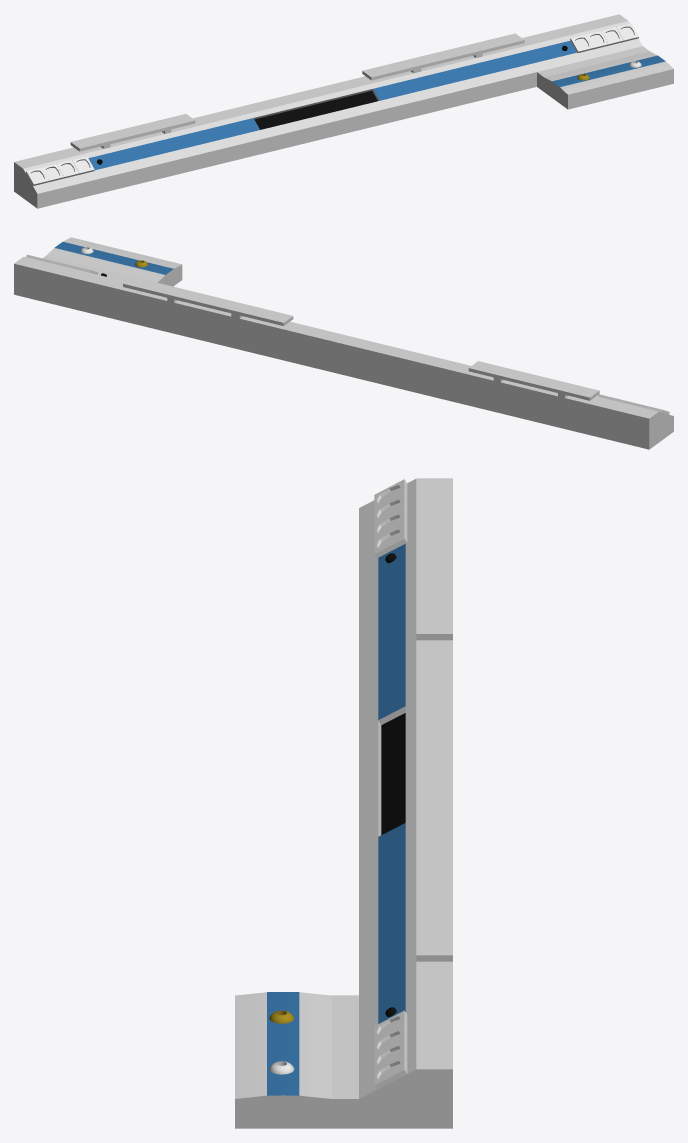
3 views of the same model, one above another, from view 1: azimuth 30°, elevation 25°; view 2: azimuth 150°, elevation 25°; view 3: azimuth 270°, elevation 25° (orthographic). The views are drawn at different scales.
Parts seen in each view (by area): view 1: Cube; view 2: Cube; view 3: Cube.
Part boxes in pixels (x1,y1,x2,y2): Cube: (14,14,673,208); Cube: (14,237,673,449); Cube: (235,478,452,1128).
Size of the model in its own units: 150 by 8.48 by 23.41.
